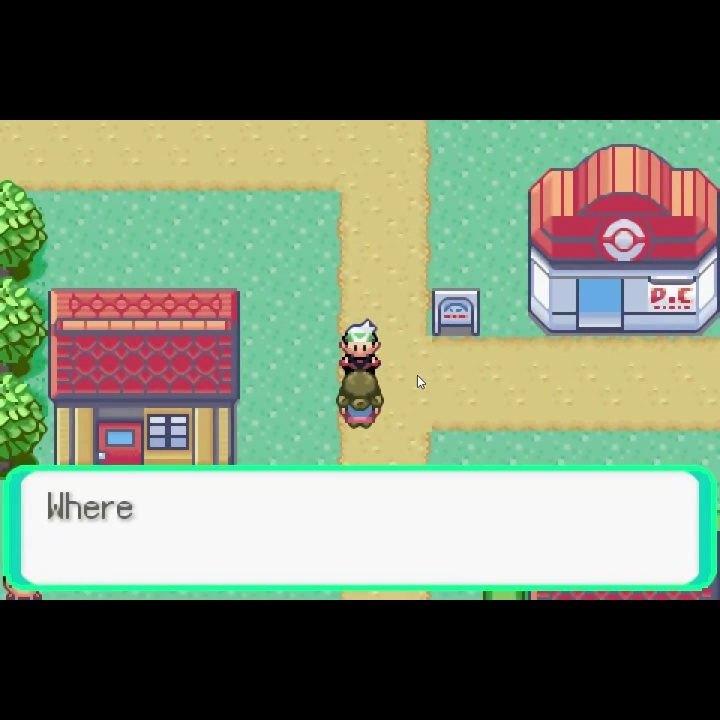house: (47, 286, 241, 465)
npc: (335, 372, 383, 432), (337, 317, 384, 371)
pokecen: (525, 143, 720, 340)
wall: (1, 180, 48, 278), (1, 273, 46, 373), (1, 372, 46, 466)
